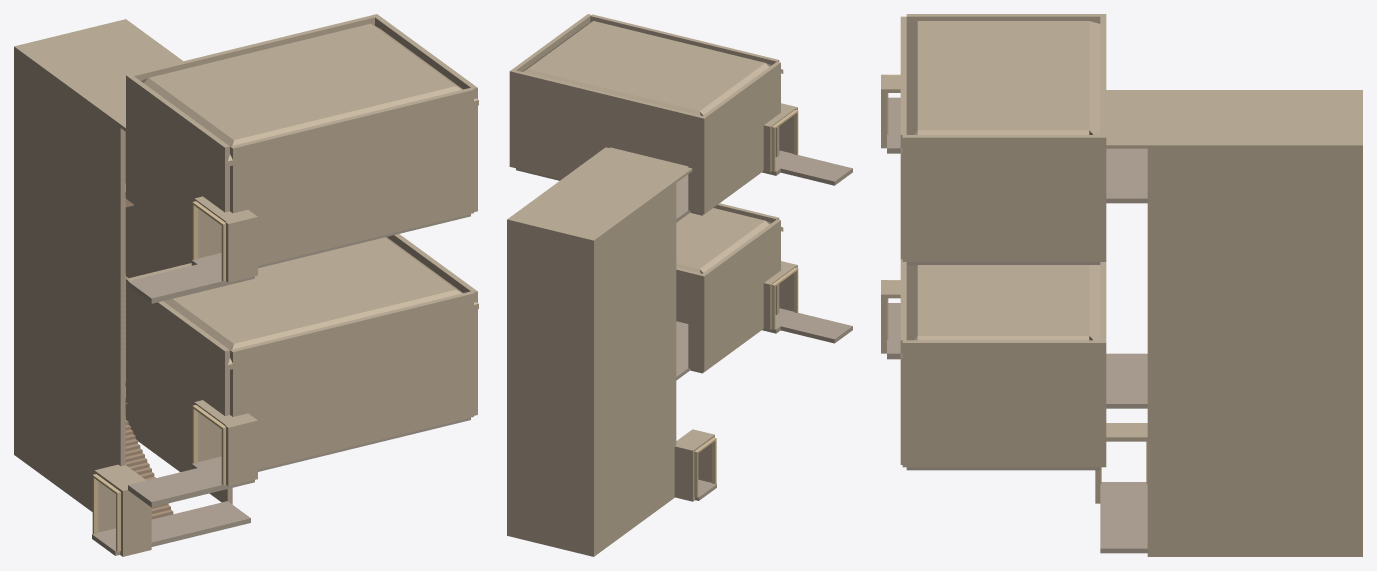
Rendered from upper.glb.
3 views of the same model, side by side, from view 1: azimuth 30°, elevation 25°; view 2: azimuth 150°, elevation 25°; view 3: azimuth 270°, elevation 25° (orthographic). The views are drawn at different scales.
Parts seen in each view (by area): view 1: stair-west-shell, b-north-wall, a-north-wall, b-vault-ceiling-crown, a-vault-ceiling-crown, b-west-wall, a-west-wall, stair-top-ceiling, stair-east-shell, slab-landing-0, b-view-floor, a-view-floor (+17 smaller); view 2: stair-back-shell, stair-west-shell, b-vault-ceiling-crown, stair-top-ceiling, b-south-east-wall, a-west-wall, b-west-wall, b-south-lintel, a-vault-ceiling-crown, a-south-west-pier, b-south-west-pier, a-view-floor (+14 smaller); view 3: stair-east-shell, a-east-wall, b-east-wall, b-vault-ceiling-crown, stair-top-ceiling, a-vault-ceiling-crown, slab-landing-0, stair-back-shell, slab-landing-2, slab-landing-4, b-north-wall, b-south-east-wall (+7 smaller).
Boxes of the visible parts, x1,y1,x2,y2 form: stair-west-shell: (14, 46, 125, 511); b-north-wall: (230, 87, 473, 265); a-north-wall: (230, 291, 473, 469); b-vault-ceiling-crown: (149, 23, 455, 139); a-vault-ceiling-crown: (172, 237, 455, 343); b-west-wall: (129, 76, 210, 256); a-west-wall: (129, 287, 210, 460); stair-top-ceiling: (14, 19, 182, 131); stair-east-shell: (123, 20, 232, 504); slab-landing-0: (151, 501, 250, 546); b-view-floor: (128, 260, 239, 303); a-view-floor: (128, 466, 239, 507); stair-back-shell: (507, 218, 595, 556); stair-west-shell: (590, 180, 676, 556); b-vault-ceiling-crown: (527, 21, 764, 110); stair-top-ceiling: (507, 147, 692, 242); b-south-east-wall: (509, 69, 611, 179); a-west-wall: (703, 230, 765, 369); b-west-wall: (703, 73, 765, 211); b-south-lintel: (609, 94, 690, 166); a-vault-ceiling-crown: (676, 208, 764, 268); a-south-west-pier: (688, 271, 706, 371); b-south-west-pier: (688, 113, 706, 213); a-view-floor: (775, 309, 852, 343); stair-east-shell: (1147, 145, 1362, 556); a-east-wall: (902, 340, 1106, 467); b-east-wall: (902, 135, 1106, 261); b-vault-ceiling-crown: (917, 21, 1089, 130); stair-top-ceiling: (1106, 90, 1362, 148); a-vault-ceiling-crown: (917, 265, 1089, 335); slab-landing-0: (1100, 498, 1147, 553); stair-back-shell: (1357, 145, 1362, 556); slab-landing-2: (1106, 353, 1147, 408); slab-landing-4: (1106, 148, 1147, 203); b-north-wall: (900, 16, 906, 259); b-south-east-wall: (1100, 74, 1106, 261).
Size of the model in its own units: 19.7 by 26.83 by 24.39.
